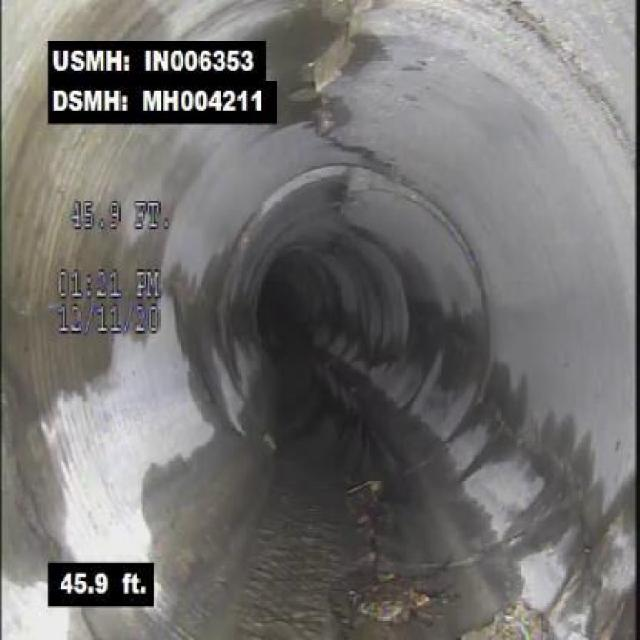Buckling: (304, 0, 378, 142)
Crack: (341, 518, 414, 636)
Joint offset: (245, 158, 457, 230)
